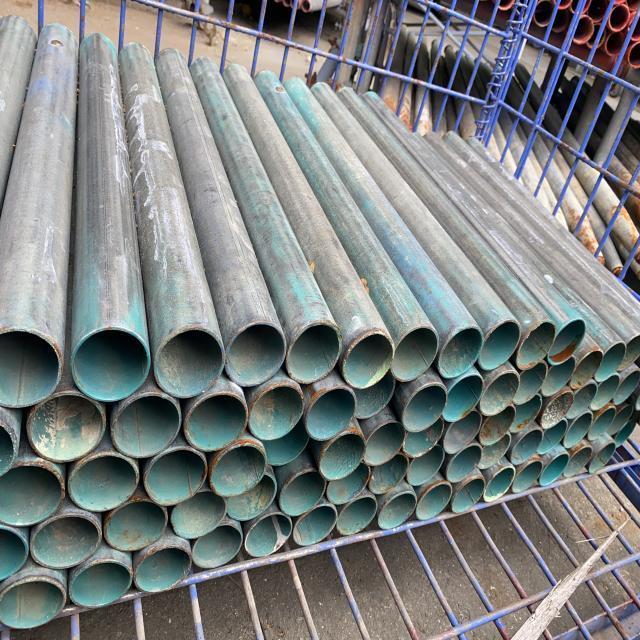pipe: (21, 389, 110, 466), (68, 321, 150, 404), (148, 321, 226, 401), (0, 325, 63, 413), (108, 388, 182, 460), (180, 381, 250, 454), (64, 451, 140, 514), (220, 320, 288, 390), (26, 510, 104, 570), (0, 460, 66, 530), (99, 490, 167, 552), (243, 377, 306, 442), (142, 446, 206, 509), (284, 317, 342, 386), (0, 574, 68, 631), (66, 551, 132, 609), (204, 440, 266, 500), (132, 538, 194, 598), (386, 318, 439, 384), (341, 327, 394, 392), (303, 382, 355, 448), (434, 319, 484, 383), (168, 488, 227, 542), (343, 359, 396, 419), (224, 470, 278, 522), (474, 312, 520, 372), (190, 521, 242, 574), (262, 412, 312, 467), (314, 430, 366, 480), (277, 465, 327, 517), (240, 509, 293, 558), (514, 314, 556, 373), (324, 455, 372, 505), (288, 501, 336, 551), (361, 416, 406, 469), (398, 383, 446, 432), (476, 365, 520, 418), (330, 493, 378, 538), (441, 373, 483, 424), (401, 411, 444, 460), (404, 440, 446, 489), (543, 317, 585, 365), (439, 408, 482, 454), (502, 392, 542, 440), (368, 451, 410, 495), (375, 488, 417, 532), (506, 424, 546, 469), (510, 360, 548, 406), (447, 470, 485, 516), (412, 480, 453, 522), (475, 404, 515, 446), (539, 352, 575, 398), (536, 387, 572, 433), (0, 521, 27, 582), (472, 428, 511, 470), (444, 440, 482, 482), (561, 378, 597, 422), (591, 339, 625, 384), (568, 347, 602, 391), (608, 362, 640, 408), (480, 460, 514, 503), (0, 414, 24, 474), (534, 448, 568, 489), (584, 375, 620, 413), (533, 418, 568, 456), (508, 456, 541, 496), (612, 329, 640, 376), (582, 402, 616, 440), (560, 412, 593, 451), (558, 444, 590, 483), (598, 398, 630, 436), (586, 436, 613, 477), (608, 418, 636, 449)
